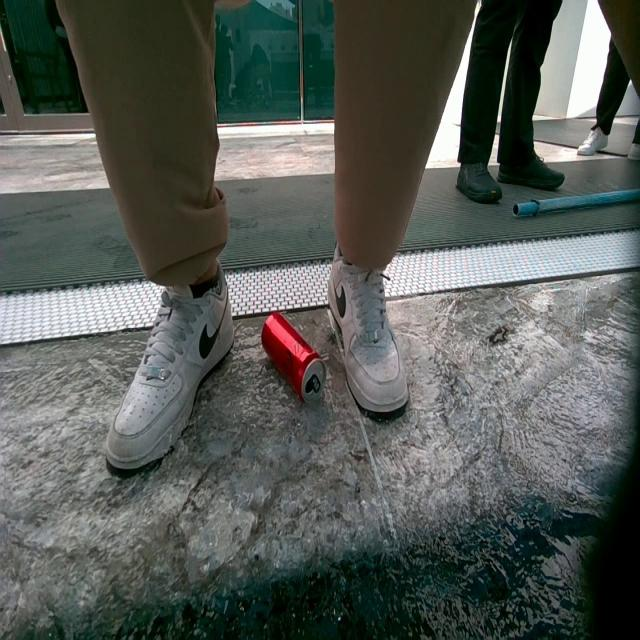Cans: (262, 311, 328, 405)
